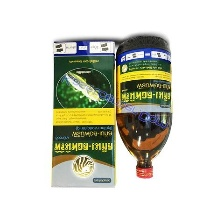book: (45, 37, 120, 192)
insecticide: (111, 32, 175, 183)
